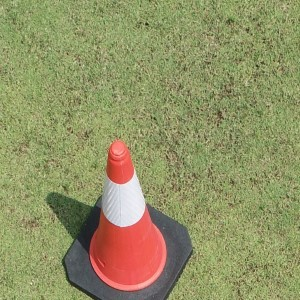traffic cone: (62, 140, 193, 300)
